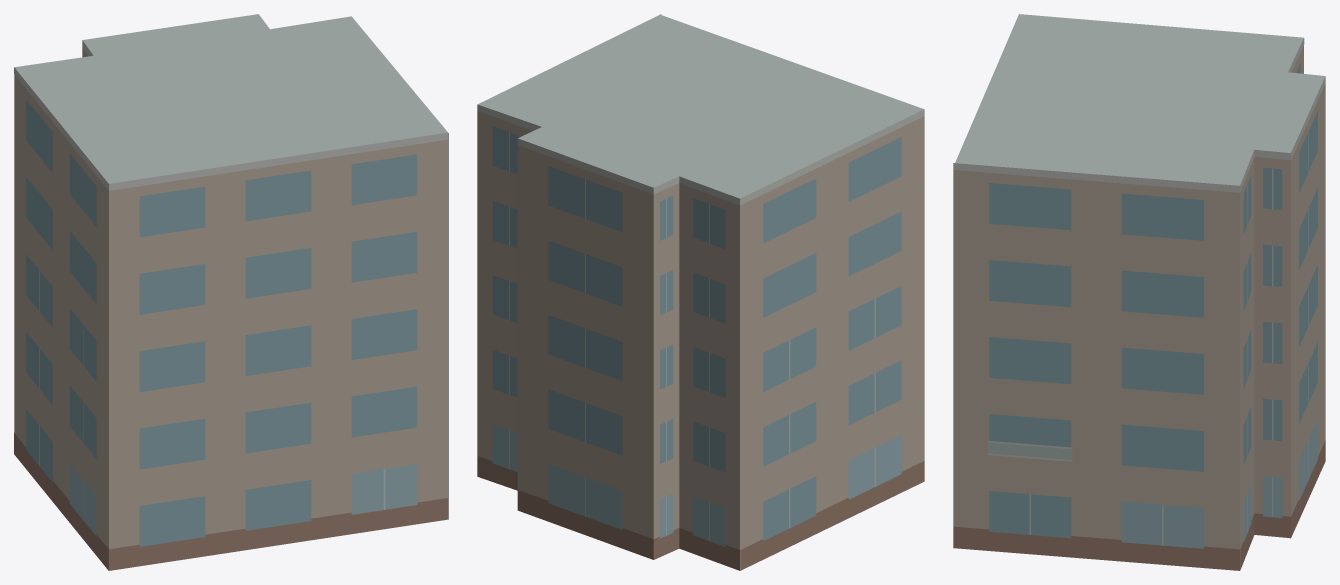
The model's file is survey-upis-32669710.glb.
The picture shows the model from 3 angles, left to right: view 1: azimuth 30°, elevation 25°; view 2: azimuth 150°, elevation 25°; view 3: azimuth 270°, elevation 25°; orthographic projection. The views are drawn at different scales.
Visible parts, largest first — view 1: survey-upis-32669710.tmp; view 2: survey-upis-32669710.tmp; view 3: survey-upis-32669710.tmp.
Part boxes in pixels (bbox=[...]): survey-upis-32669710.tmp: bbox=[14, 14, 448, 570]; survey-upis-32669710.tmp: bbox=[477, 14, 924, 570]; survey-upis-32669710.tmp: bbox=[953, 14, 1325, 570].
Bounding box in the file's own units: 12.93 × 13.5 × 11.84.
